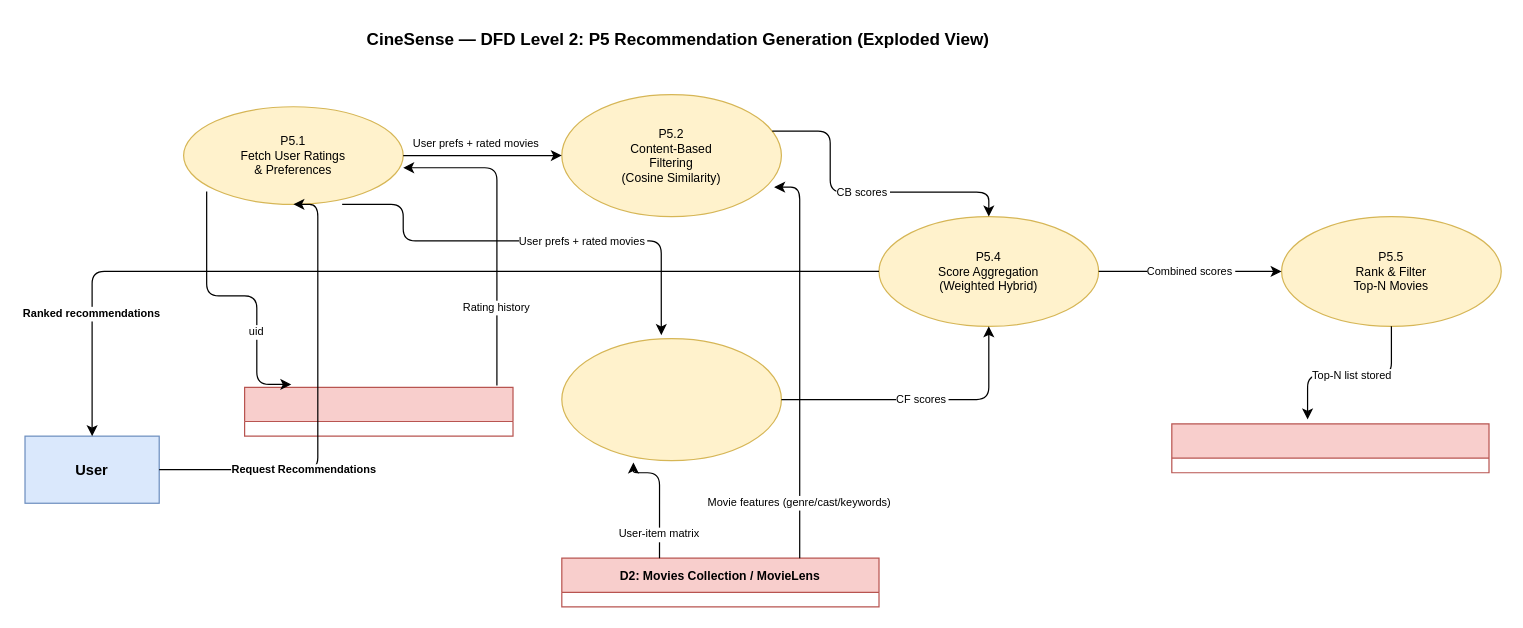
This 1523x628 diagram has some shape labels left out. Here are the shapes that lost their labels. From the top down, the centre of each, then its label:
At [378,411]: "D3: Ratings Collection".
At [671,399]: "P5.3 Collaborative Filtering (Matrix Factorization)".
At [1330,448]: "D5: Recommendations Cache (Firestore)".
